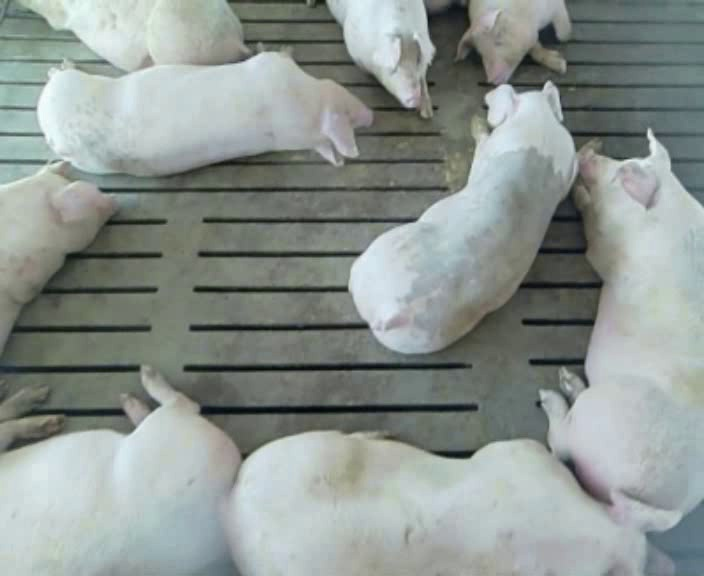pig: (350, 82, 601, 353), (230, 431, 682, 575), (541, 130, 703, 512), (0, 366, 239, 574), (37, 42, 372, 175), (23, 1, 248, 71), (327, 1, 434, 117), (456, 2, 571, 83)
